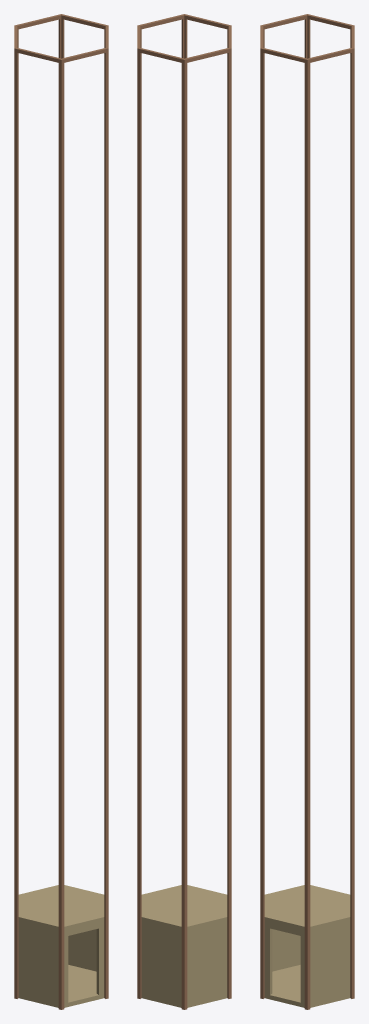
The model's file is elevator.fbx.
The picture shows the model from 3 angles, left to right: view 1: azimuth 30°, elevation 25°; view 2: azimuth 150°, elevation 25°; view 3: azimuth 330°, elevation 25°; orthographic projection.
Visible parts, largest first — view 1: elevator; view 2: elevator; view 3: elevator.
Boxes of the visible parts, bbox=[...] form: elevator: bbox=[14, 14, 108, 1009]; elevator: bbox=[137, 14, 231, 1009]; elevator: bbox=[260, 14, 354, 1009].
Bounding box in the file's own units: 340 × 3278 × 294.
